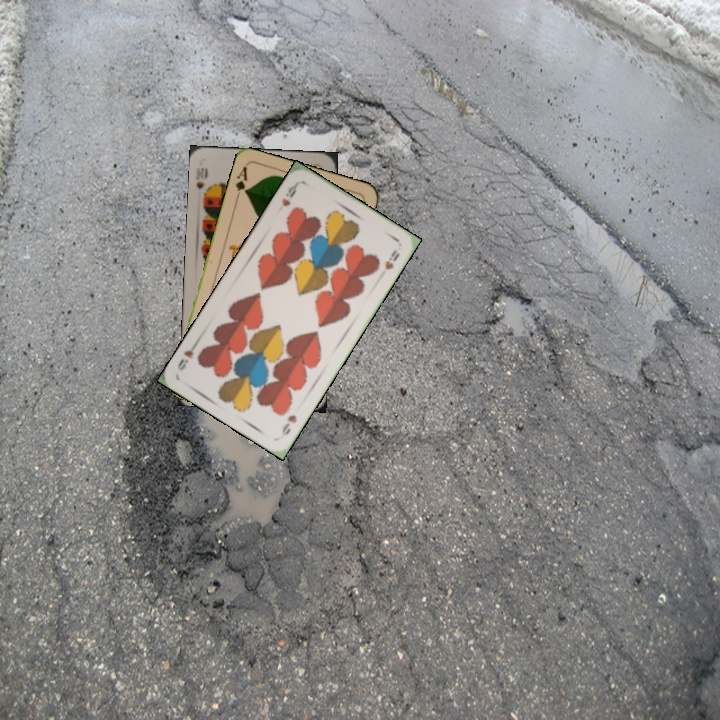GA: (231, 162, 250, 202)
H9: (278, 179, 301, 209), (278, 411, 299, 438)
S10: (191, 164, 211, 201)
